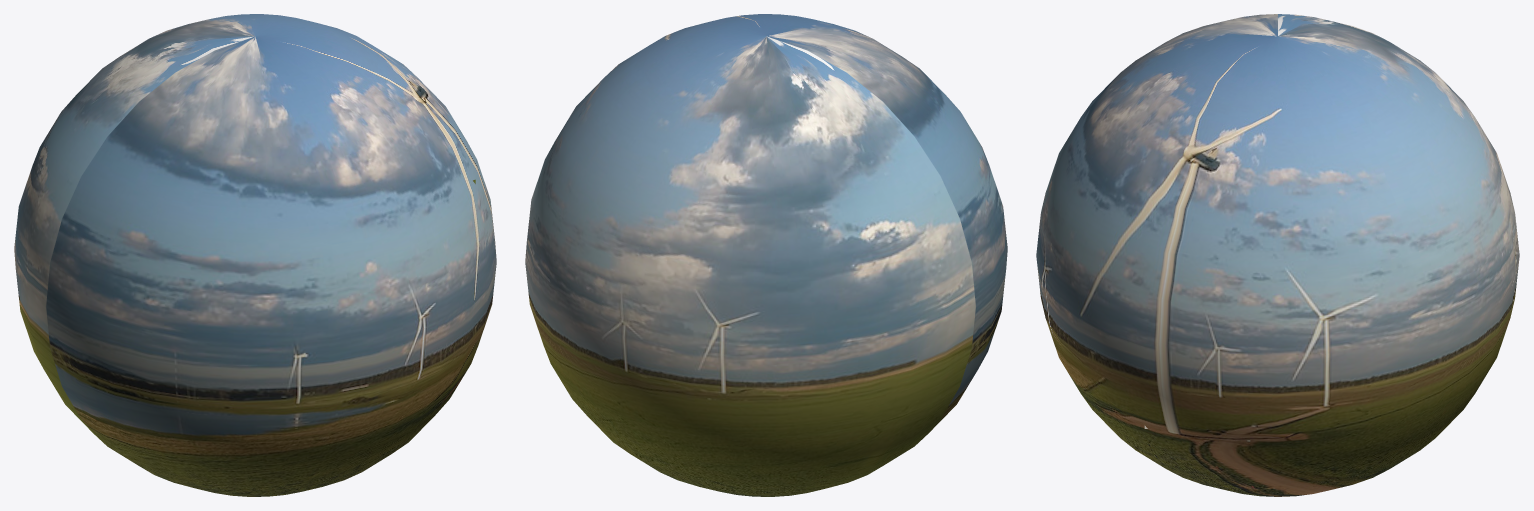
File: mulita.glb
3 renders of one model, left to right at view 1: azimuth 30°, elevation 25°; view 2: azimuth 150°, elevation 25°; view 3: azimuth 270°, elevation 25°, orthographic.
Visible parts, largest first — view 1: Esfera; view 2: Esfera; view 3: Esfera.
Part boxes in pixels (left/top/right/bottom): Esfera: left=14, top=14, right=496, bottom=496; Esfera: left=525, top=14, right=1007, bottom=496; Esfera: left=1036, top=14, right=1519, bottom=496.
Size of the model in its own units: 2 by 2 by 2.
3 materials, 3 textured.
